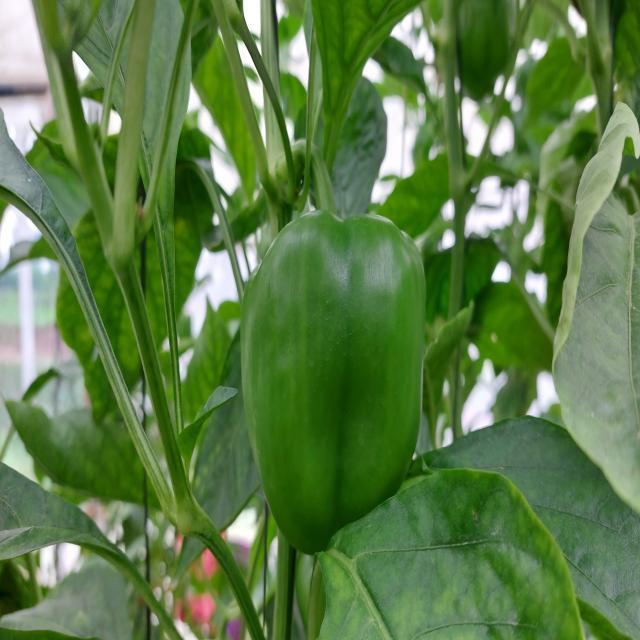Green--Not-ready-to-harvest: (246, 216, 430, 553)
